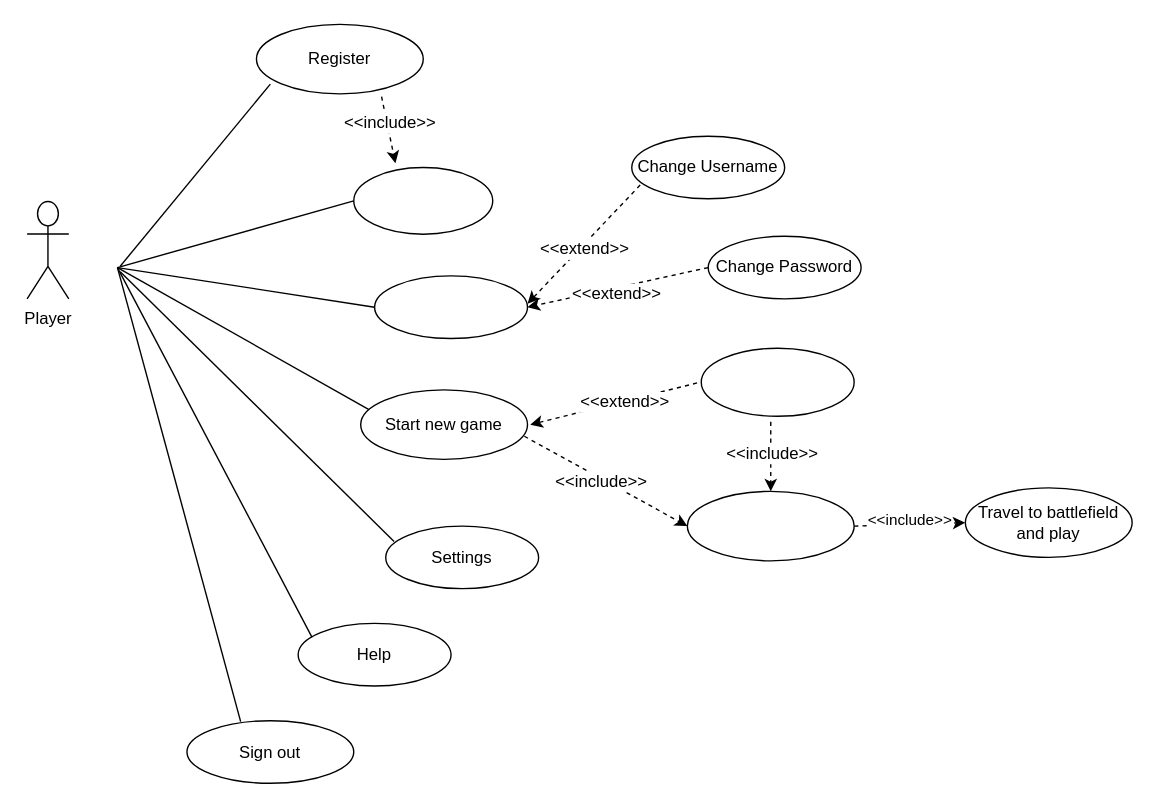
Some shapes in this 1156 by 808 pixel diagram are drawn without their labels. The centre of each missing label's shape, as x and y in pixels:
"Create character" goes at (x=770, y=525).
"Join Lobby" goes at (x=777, y=381).
"Login" goes at (x=422, y=200).
"View Account" goes at (x=450, y=306).
